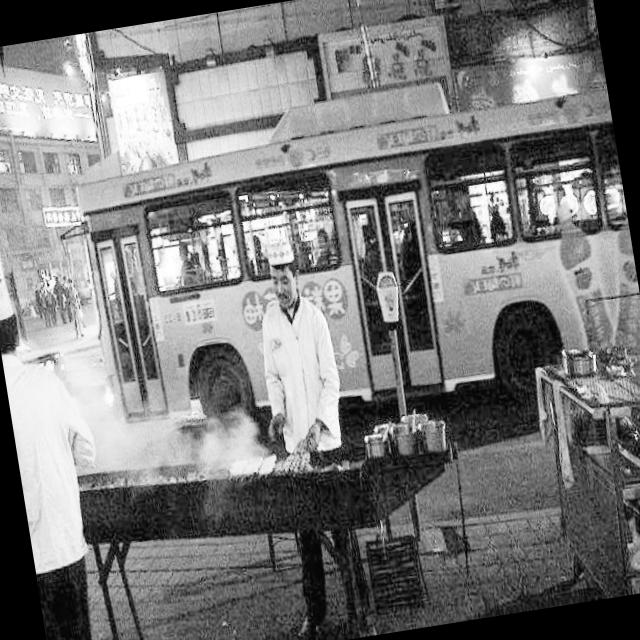Bus: (61, 48, 640, 473)
